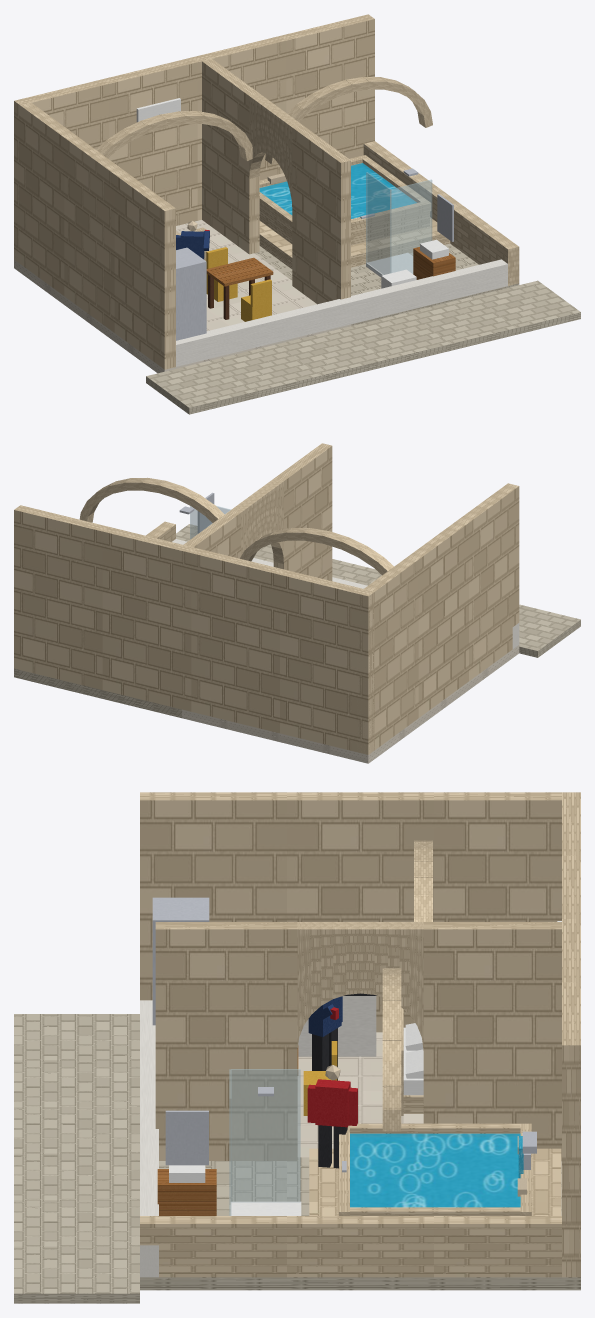
Rendered from coppia6_sanrocco.glb.
The picture shows the model from 3 angles, top to bottom: view 1: azimuth 30°, elevation 25°; view 2: azimuth 150°, elevation 25°; view 3: azimuth 270°, elevation 25°; orthographic projection. The views are drawn at different scales.
Visible parts, largest first — view 1: Wall_W, Wall_N, Spa_Divider, SanRocco_Step, Wall_Front_Cut, Wall_E_Cut, SanRocco_Step_sub, SR_Bath_sh_gl1, West_Floor, SR_MiniPool_water, SR_Kitchen_fridge, SR_Bath_sh_gl2 (+15 smaller); view 2: Wall_N, Wall_W, Spa_Divider, West_Floor_sub, SanRocco_Step, Spa_Floor_sub, Wall_Front_Cut, SanRocco_Step_sub, SR_Bath_sh_gl1; view 3: Spa_Divider, Wall_W, SanRocco_Step, Wall_E_Cut, SR_MiniPool_water, Wall_N, SR_Bath_sh_gl2, Spa_Floor_sub, Spa_Floor, Wall_Front_Cut, West_Floor, Pool_Deck (+12 smaller).
Part boxes in pixels (bbox=[...]): Wall_W: bbox=[14, 101, 175, 369]; Wall_N: bbox=[14, 14, 374, 259]; Spa_Divider: bbox=[202, 59, 350, 304]; SanRocco_Step: bbox=[146, 280, 580, 407]; Wall_Front_Cut: bbox=[176, 259, 507, 366]; Wall_E_Cut: bbox=[363, 141, 519, 285]; SanRocco_Step_sub: bbox=[146, 312, 580, 414]; SR_Bath_sh_gl1: bbox=[390, 179, 432, 273]; West_Floor: bbox=[176, 220, 316, 330]; SR_MiniPool_water: bbox=[259, 163, 416, 218]; SR_Kitchen_fridge: bbox=[176, 247, 206, 340]; SR_Bath_sh_gl2: bbox=[366, 172, 390, 275]; Wall_N: bbox=[14, 505, 374, 754]; Wall_W: bbox=[357, 483, 519, 754]; Spa_Divider: bbox=[183, 443, 332, 580]; West_Floor_sub: bbox=[182, 645, 519, 763]; SanRocco_Step: bbox=[176, 524, 580, 650]; Spa_Floor_sub: bbox=[14, 668, 181, 718]; Wall_Front_Cut: bbox=[172, 539, 519, 648]; SanRocco_Step_sub: bbox=[519, 620, 580, 657]; SR_Bath_sh_gl1: bbox=[190, 506, 230, 539]; Spa_Divider: bbox=[155, 922, 561, 1160]; Wall_W: bbox=[140, 792, 561, 1032]; SanRocco_Step: bbox=[14, 1014, 139, 1293]; Wall_E_Cut: bbox=[140, 1216, 561, 1277]; SR_MiniPool_water: bbox=[350, 1133, 520, 1207]; Wall_N: bbox=[562, 792, 580, 1277]; SR_Bath_sh_gl2: bbox=[231, 1069, 300, 1202]; Spa_Floor_sub: bbox=[140, 1277, 580, 1290]; Spa_Floor: bbox=[159, 1157, 561, 1215]; Wall_Front_Cut: bbox=[140, 1000, 158, 1277]; West_Floor: bbox=[297, 1032, 423, 1157]; Pool_Deck: bbox=[309, 1148, 561, 1215].
Bounding box in the file's own units: 8.4 × 3.43 × 7.2.
Materials: 15 (15 with a texture image).
